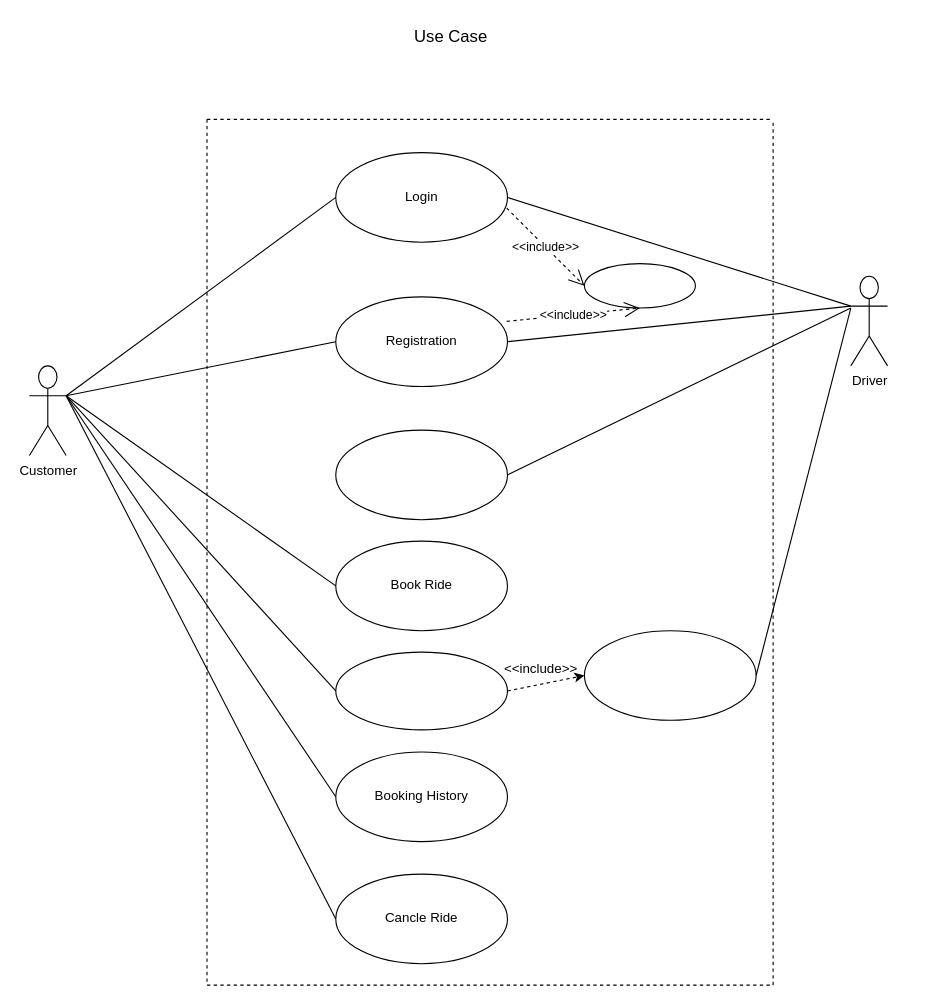
Image size: 926x1005. Some labels were removed from this diagram. Here are the shapes that lost their labels. From the top down, the box of each, then its label:
(583, 263, 695, 308): Validate
(335, 429, 507, 520): Publish Ride
(335, 651, 507, 730): Payment
(583, 630, 756, 720): Cash Payment
